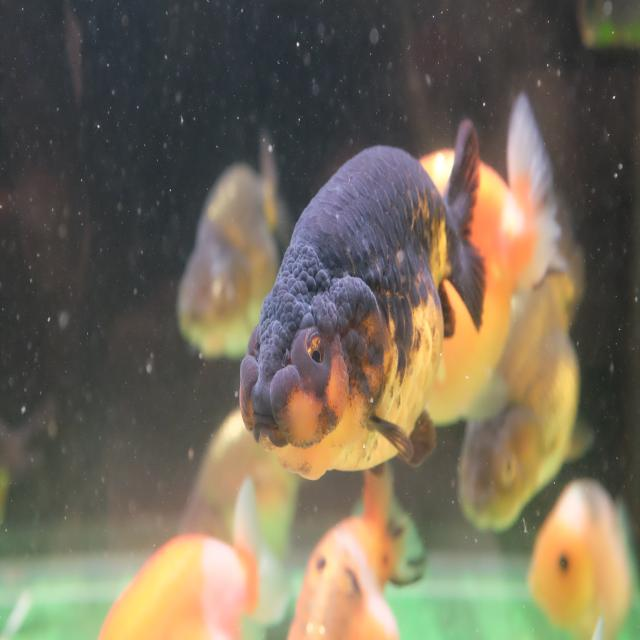Tilapia: (237, 114, 488, 483)
